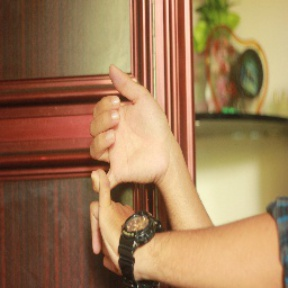S: (78, 62, 181, 280)
